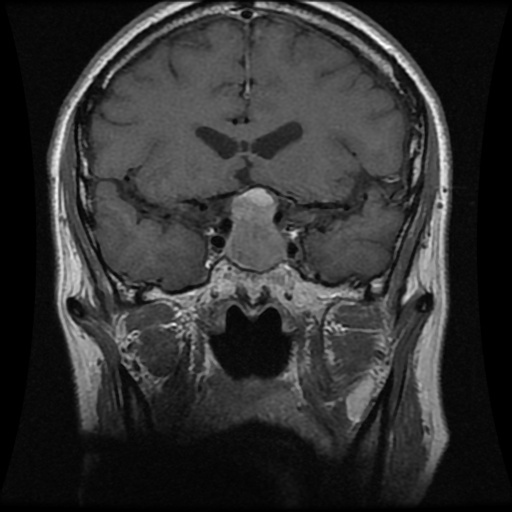pituitary: (227, 191, 286, 270)
